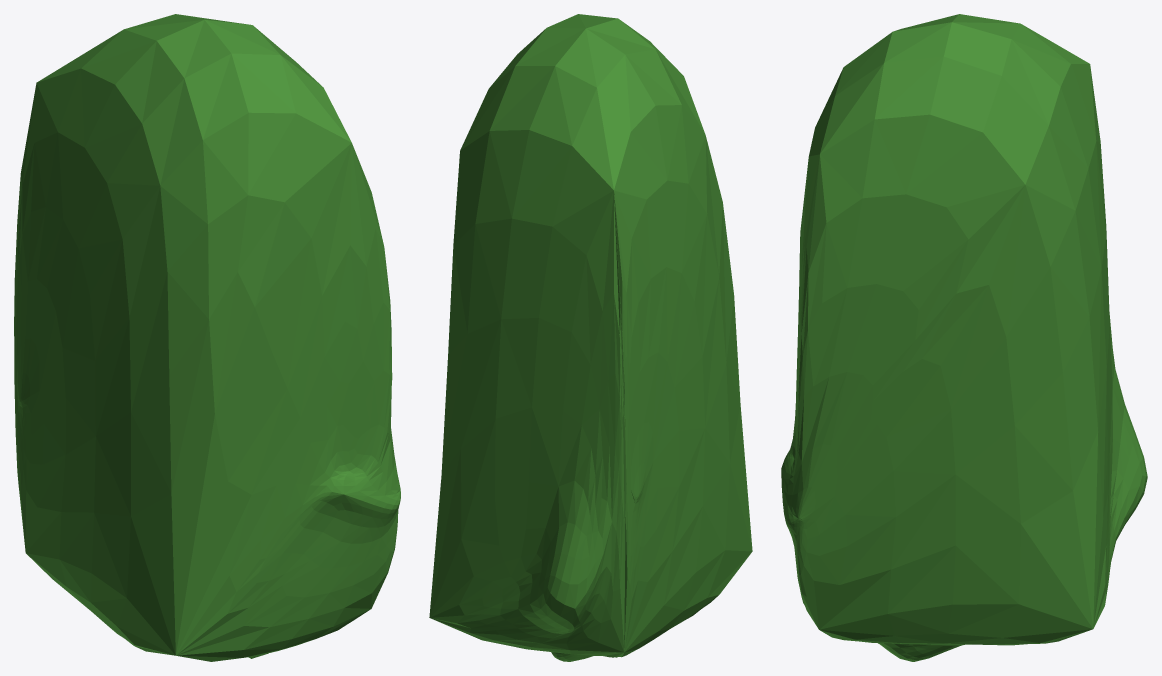
3 renders of one model, left to right at view 1: azimuth 30°, elevation 25°; view 2: azimuth 150°, elevation 25°; view 3: azimuth 270°, elevation 25°, orthographic.
Visible parts, largest first — view 1: 289_Cube.1181; view 2: 289_Cube.1181; view 3: 289_Cube.1181.
Part boxes in pixels (x1,y1,x2,y2): 289_Cube.1181: [14, 14, 400, 661]; 289_Cube.1181: [429, 14, 752, 661]; 289_Cube.1181: [781, 14, 1147, 661].
Size of the model in its own units: 4.89 by 12.39 by 6.58.
